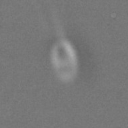normal: (34, 1, 69, 39)
